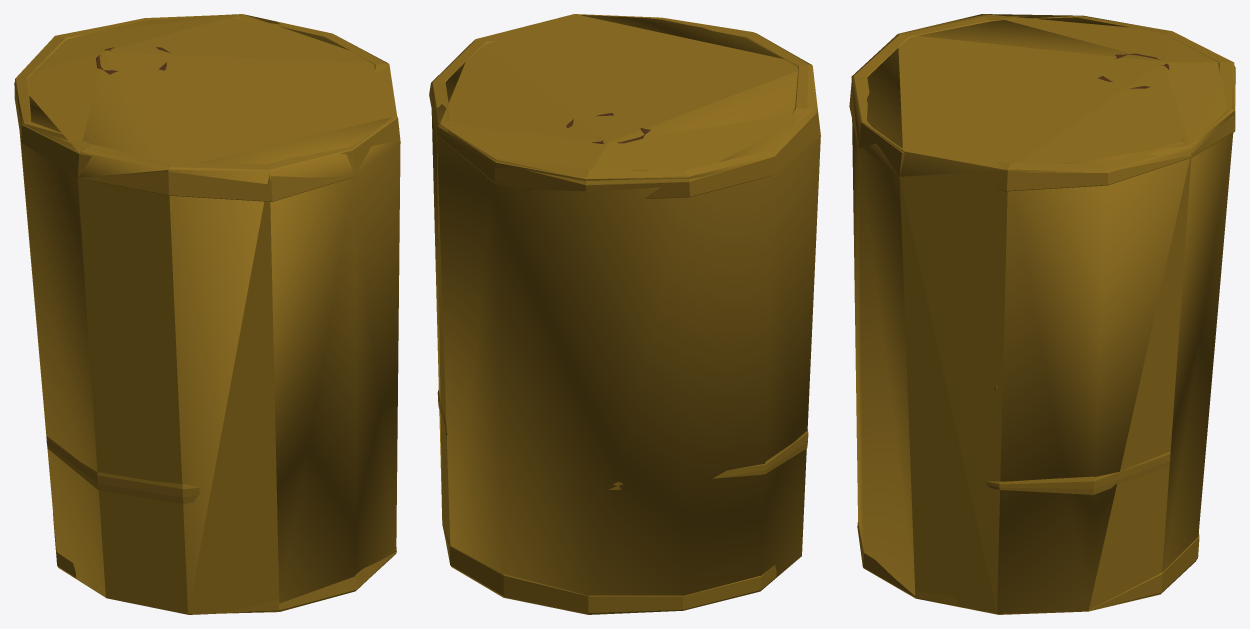
The model's file is barrel.fbx.
The picture shows the model from 3 angles, left to right: view 1: azimuth 30°, elevation 25°; view 2: azimuth 150°, elevation 25°; view 3: azimuth 270°, elevation 25°; orthographic projection.
Visible parts, largest first — view 1: c_barrel, barrel; view 2: c_barrel, barrel; view 3: c_barrel, barrel.
Part boxes in pixels (x1,y1,x2,y2): c_barrel: (15, 14, 400, 614); barrel: (14, 15, 400, 614); c_barrel: (431, 14, 820, 614); barrel: (429, 14, 820, 613); c_barrel: (851, 14, 1235, 614); barrel: (849, 15, 1235, 614).
Bounding box in the file's own units: 72.7 × 95.29 × 72.86.
